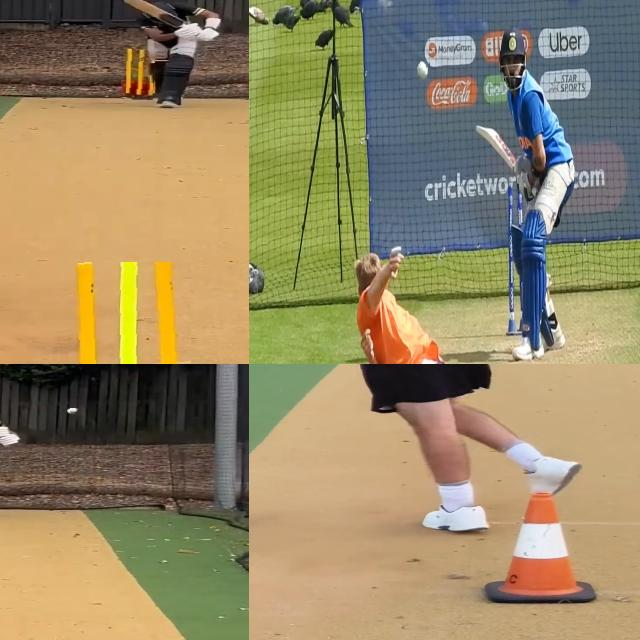Cricket ball: (414, 57, 430, 86), (65, 408, 79, 414)
Stumps: (58, 262, 191, 364), (126, 47, 155, 100)
